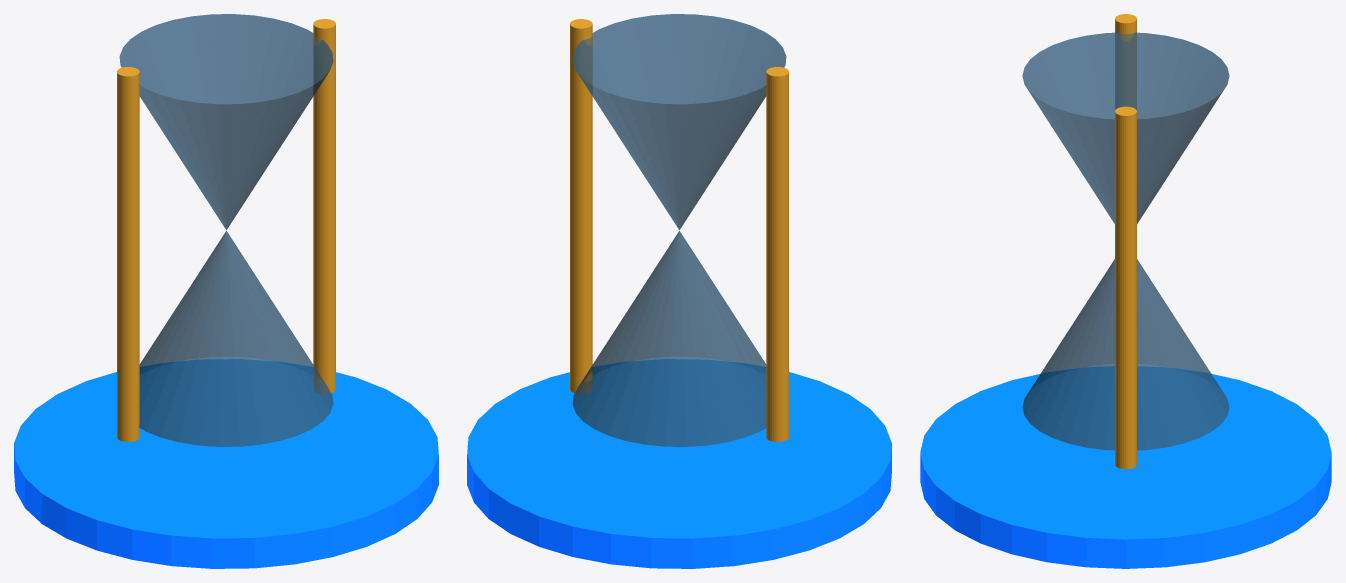
The model's file is news_hourglass.dae.
3 views of the same model, side by side, from view 1: azimuth 30°, elevation 25°; view 2: azimuth 150°, elevation 25°; view 3: azimuth 270°, elevation 25° (orthographic). The views are drawn at different scales.
Visible parts, largest first — view 1: 09_13_Popular_News_Hourglass_ROOT_base, 09_13_Popular_News_Hourglass_part_02, 09_13_Popular_News_Hourglass_part_01, 09_13_Popular_News_Hourglass_part_03, 09_13_Popular_News_Hourglass_part_04; view 2: 09_13_Popular_News_Hourglass_ROOT_base, 09_13_Popular_News_Hourglass_part_02, 09_13_Popular_News_Hourglass_part_01, 09_13_Popular_News_Hourglass_part_03, 09_13_Popular_News_Hourglass_part_04; view 3: 09_13_Popular_News_Hourglass_ROOT_base, 09_13_Popular_News_Hourglass_part_02, 09_13_Popular_News_Hourglass_part_01, 09_13_Popular_News_Hourglass_part_04, 09_13_Popular_News_Hourglass_part_03.
Part boxes in pixels (<box>): 09_13_Popular_News_Hourglass_ROOT_base: <box>14,359,438,568</box>; 09_13_Popular_News_Hourglass_part_02: <box>119,14,333,230</box>; 09_13_Popular_News_Hourglass_part_01: <box>139,231,333,446</box>; 09_13_Popular_News_Hourglass_part_03: <box>117,67,139,441</box>; 09_13_Popular_News_Hourglass_part_04: <box>313,19,335,393</box>; 09_13_Popular_News_Hourglass_ROOT_base: <box>467,359,891,568</box>; 09_13_Popular_News_Hourglass_part_02: <box>572,14,786,230</box>; 09_13_Popular_News_Hourglass_part_01: <box>572,231,766,446</box>; 09_13_Popular_News_Hourglass_part_03: <box>766,67,788,441</box>; 09_13_Popular_News_Hourglass_part_04: <box>570,19,592,393</box>; 09_13_Popular_News_Hourglass_ROOT_base: <box>920,366,1331,568</box>; 09_13_Popular_News_Hourglass_part_02: <box>1022,32,1229,223</box>; 09_13_Popular_News_Hourglass_part_01: <box>1022,259,1229,450</box>; 09_13_Popular_News_Hourglass_part_04: <box>1115,106,1136,469</box>; 09_13_Popular_News_Hourglass_part_03: <box>1115,14,1136,109</box>.
Bounding box in the file's own units: 0.76 × 0.85 × 0.76.
